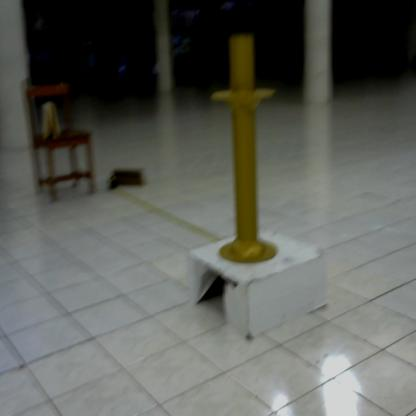pole: (211, 32, 281, 277)
